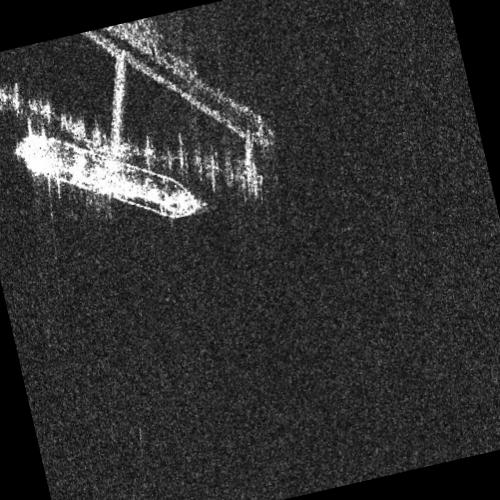ship: (14, 133, 202, 220)
